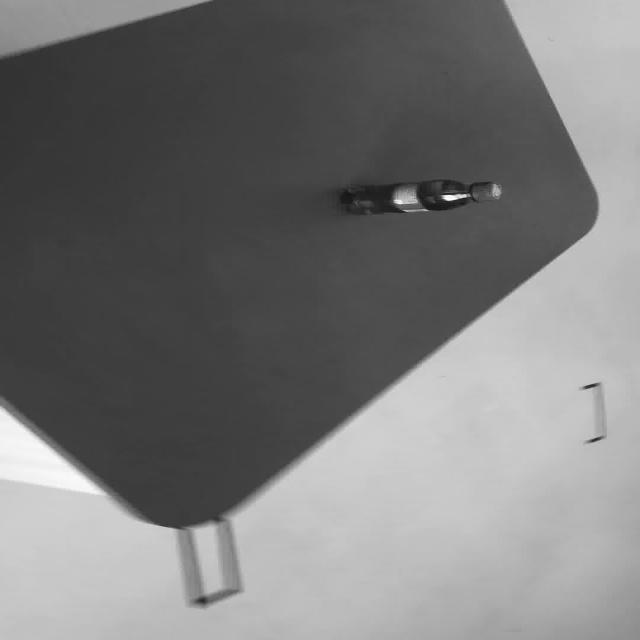guarana: (337, 178, 503, 215)
